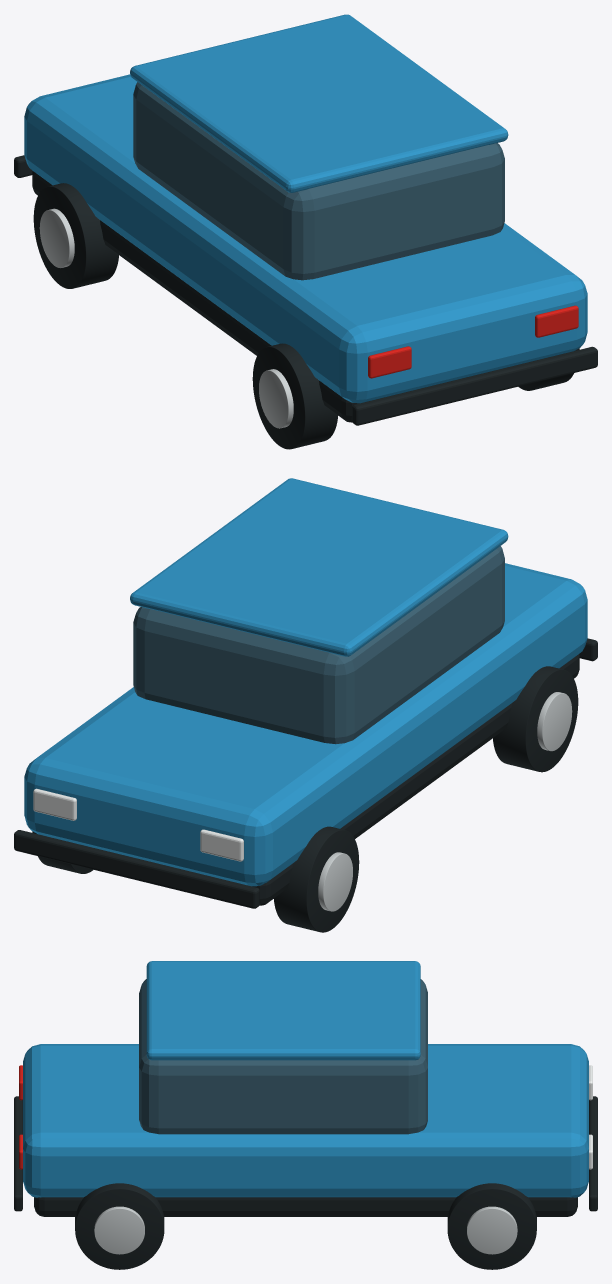
The model's file is parking_vehicle.glb.
3 renders of one model, top to bottom at view 1: azimuth 30°, elevation 25°; view 2: azimuth 150°, elevation 25°; view 3: azimuth 270°, elevation 25°, orthographic. The views are drawn at different scales.
Parts seen in each view (by area): view 1: VEHICLE_body, VEHICLE_roof, VEHICLE_cabin, REAR_bumper, WHEEL_-1_1.25, WHEEL_-1_-1.25, VEHICLE_chassis, HUB_-1_-1.25, HUB_-1_1.25, LIGHT_1_-1.91, LIGHT_-1_-1.91; view 2: VEHICLE_body, VEHICLE_roof, VEHICLE_cabin, FRONT_bumper, WHEEL_-1_1.25, WHEEL_-1_-1.25, VEHICLE_chassis, HUB_-1_-1.25, HUB_-1_1.25, LIGHT_1_1.91, LIGHT_-1_1.91; view 3: VEHICLE_body, VEHICLE_roof, VEHICLE_cabin, VEHICLE_chassis, WHEEL_1_1.25, WHEEL_1_-1.25, HUB_1_1.25, HUB_1_-1.25, FRONT_bumper, REAR_bumper.
Boxes of the visible parts, <box> form: VEHICLE_body: <box>24,74,587,403</box>; VEHICLE_roof: <box>130,14,508,192</box>; VEHICLE_cabin: <box>133,82,504,280</box>; REAR_bumper: <box>352,346,597,425</box>; WHEEL_-1_1.25: <box>33,183,118,288</box>; WHEEL_-1_-1.25: <box>252,343,337,449</box>; VEHICLE_chassis: <box>32,171,579,422</box>; HUB_-1_-1.25: <box>259,369,293,428</box>; HUB_-1_1.25: <box>39,208,74,267</box>; LIGHT_1_-1.91: <box>535,305,578,337</box>; LIGHT_-1_-1.91: <box>368,346,411,378</box>; VEHICLE_body: <box>24,563,587,886</box>; VEHICLE_roof: <box>130,478,508,656</box>; VEHICLE_cabin: <box>133,546,504,744</box>; FRONT_bumper: <box>14,830,259,908</box>; WHEEL_-1_1.25: <box>274,826,359,932</box>; WHEEL_-1_-1.25: <box>493,666,578,772</box>; VEHICLE_chassis: <box>32,654,579,905</box>; HUB_-1_-1.25: <box>537,692,572,751</box>; HUB_-1_1.25: <box>318,852,352,911</box>; LIGHT_1_1.91: <box>33,788,76,820</box>; LIGHT_-1_1.91: <box>200,829,243,861</box>; VEHICLE_body: <box>23,1044,588,1197</box>; VEHICLE_roof: <box>146,961,420,1060</box>; VEHICLE_cabin: <box>139,979,427,1134</box>; VEHICLE_chassis: <box>34,1197,577,1216</box>; WHEEL_1_1.25: <box>447,1183,536,1269</box>; WHEEL_1_-1.25: <box>75,1183,164,1269</box>; HUB_1_1.25: <box>467,1206,517,1254</box>; HUB_1_-1.25: <box>94,1206,144,1254</box>; FRONT_bumper: <box>589,1096,597,1211</box>; REAR_bumper: <box>14,1096,22,1211</box>.
Size of the model in its own units: 1.87 by 1.54 by 3.92.
